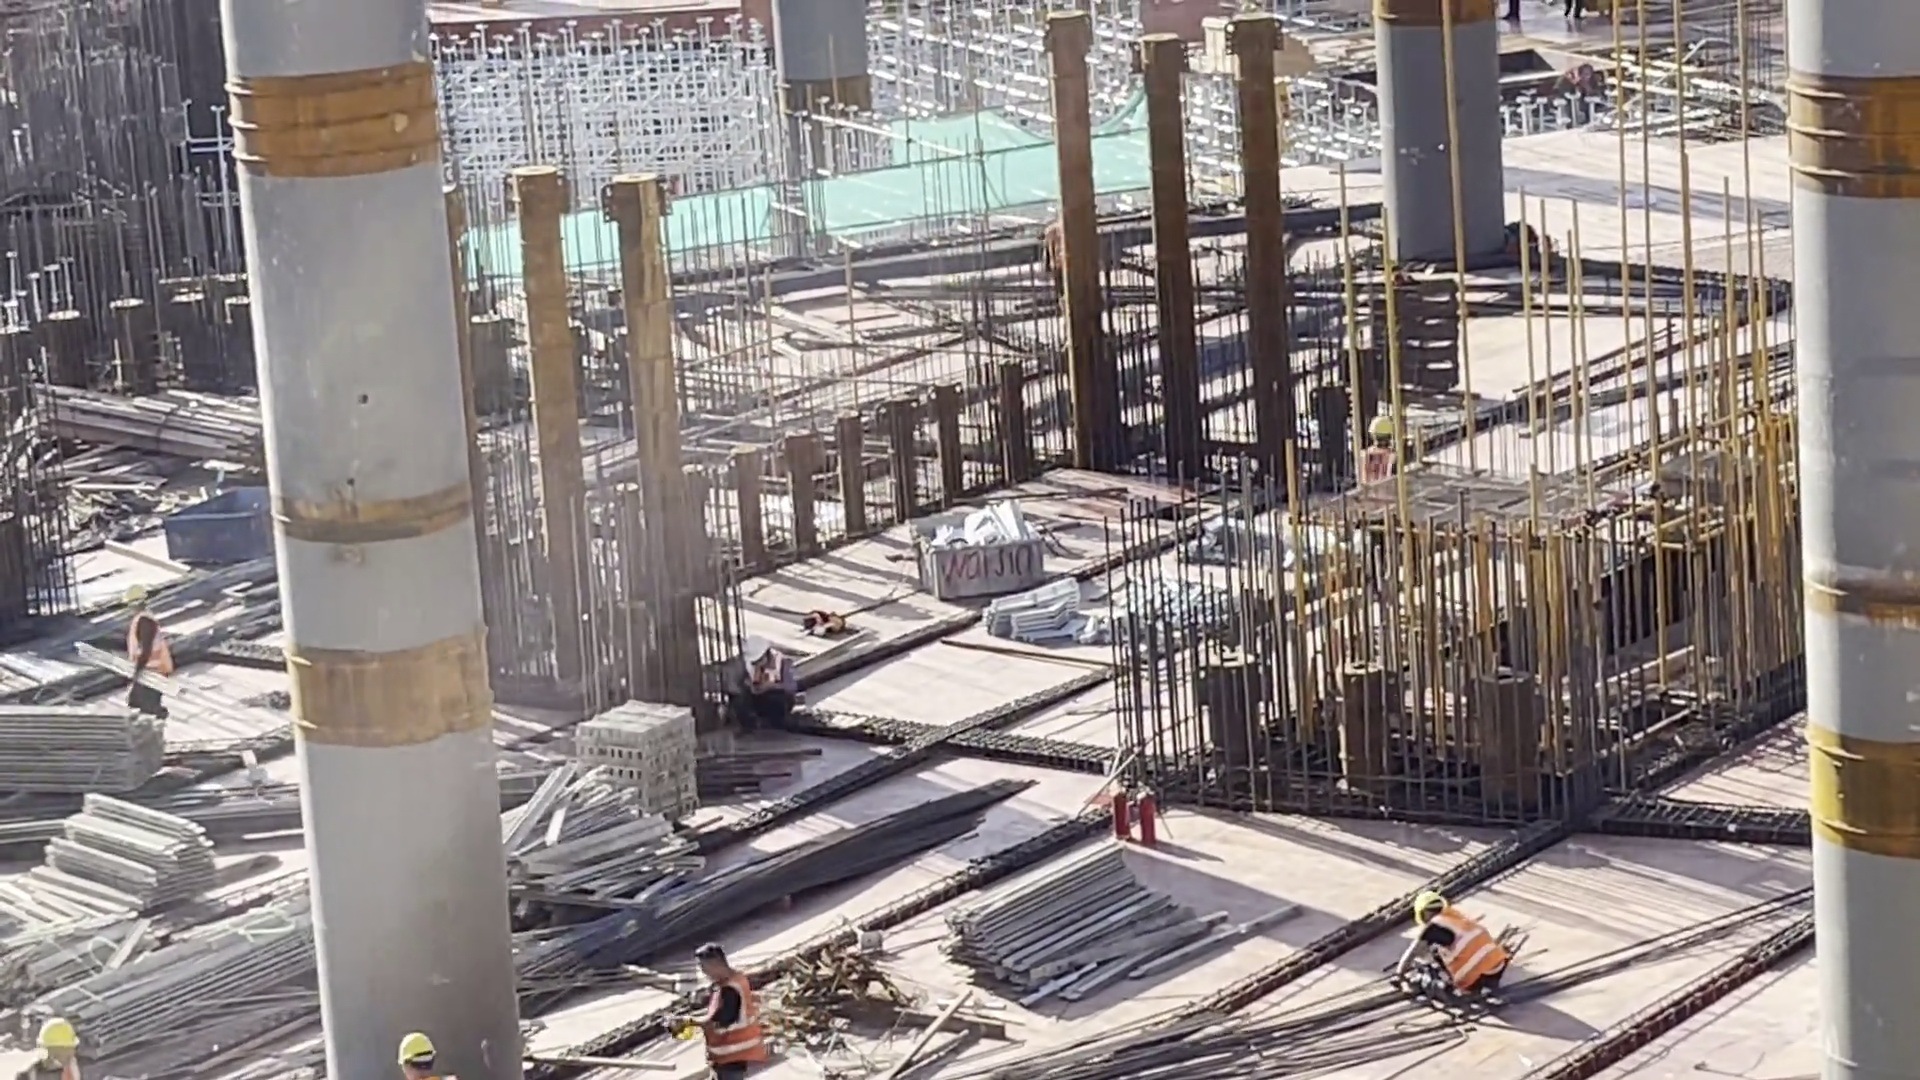helmet: (384, 1017, 458, 1071), (30, 1004, 85, 1050), (737, 628, 769, 667), (1412, 882, 1444, 916), (1374, 413, 1399, 441), (125, 587, 151, 605)
hopper: (143, 456, 282, 578), (899, 498, 1048, 598)
person: (1392, 889, 1518, 1013), (104, 580, 184, 749), (669, 937, 759, 1080), (715, 620, 808, 737), (1354, 406, 1415, 495)
vest: (1419, 900, 1504, 1000), (692, 968, 762, 1061), (126, 617, 175, 682), (1360, 442, 1397, 486)
wood: (944, 816, 1196, 998), (37, 788, 229, 914), (1, 693, 175, 816)
